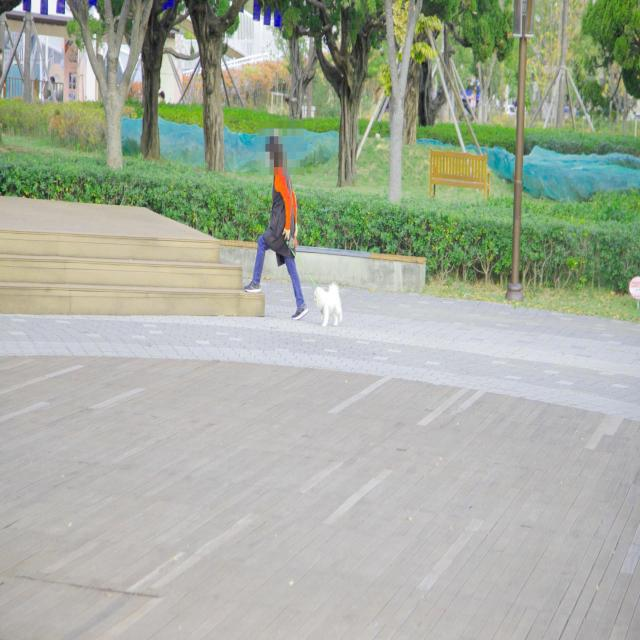Leashed_Dog: (283, 228, 343, 328)
